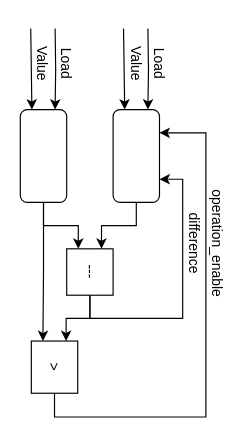
The diagram is 249 pixels wide and 447 high, and some of its shapes have lost their labels. Each missing label, with the box of its shape:
Делимое: (112, 108, 160, 202)
Делитель: (19, 108, 67, 202)
